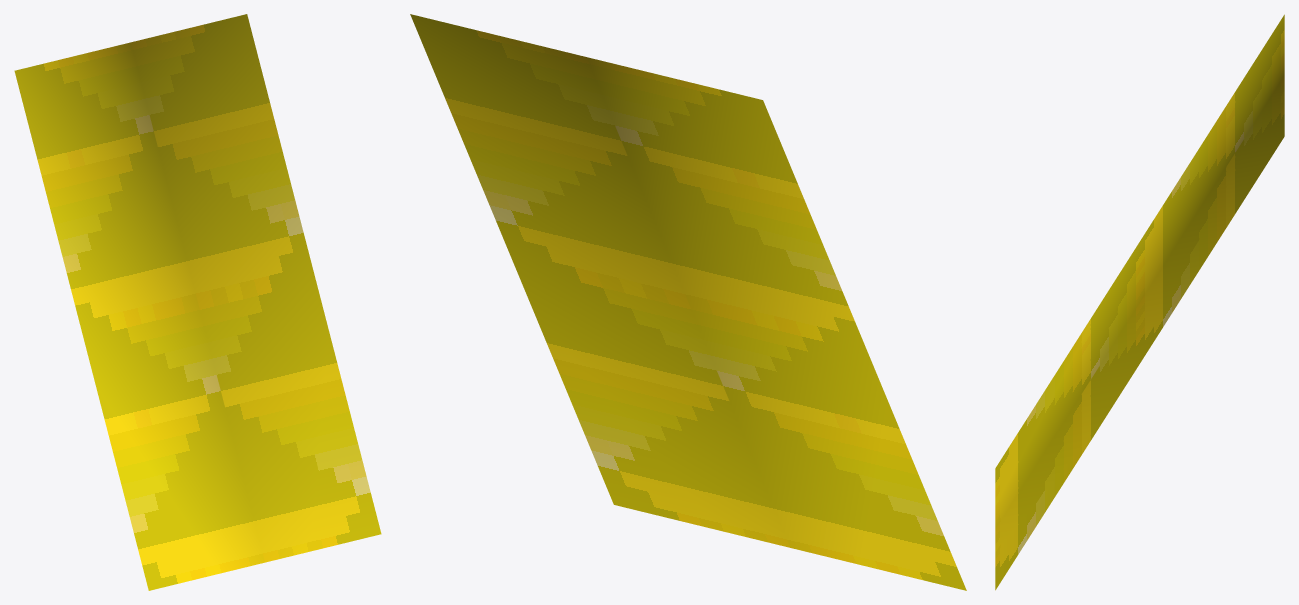
3 views of the same model, side by side, from view 1: azimuth 30°, elevation 25°; view 2: azimuth 150°, elevation 25°; view 3: azimuth 270°, elevation 25° (orthographic). The views are drawn at different scales.
Size of the model in its own units: 1 by 1.73 by 1.
1 material, 1 textured.
